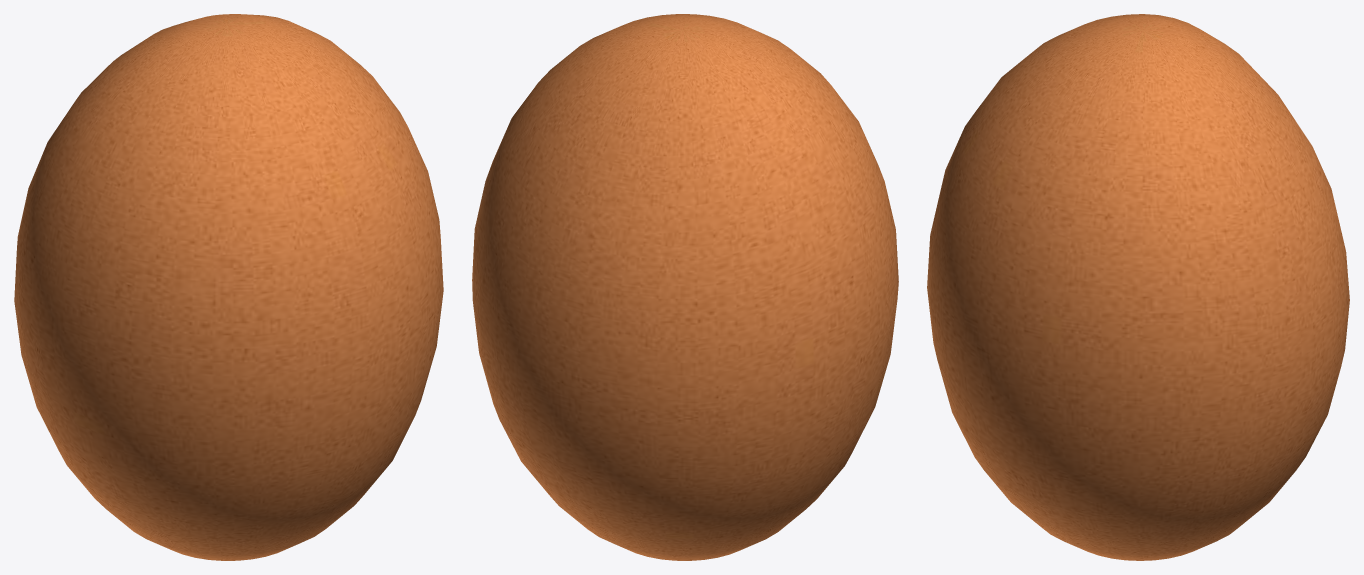
The picture shows the model from 3 angles, left to right: view 1: azimuth 30°, elevation 25°; view 2: azimuth 150°, elevation 25°; view 3: azimuth 270°, elevation 25°; orthographic projection.
Parts seen in each view (by area): view 1: Sphere; view 2: Sphere; view 3: Sphere.
Part boxes in pixels (box(x1,y1,x2,y2)): Sphere: box(14, 14, 443, 560); Sphere: box(472, 14, 898, 560); Sphere: box(927, 14, 1349, 560).
Bounding box in the file's own units: 1.52 × 2 × 1.49.
1 material, 1 textured.
